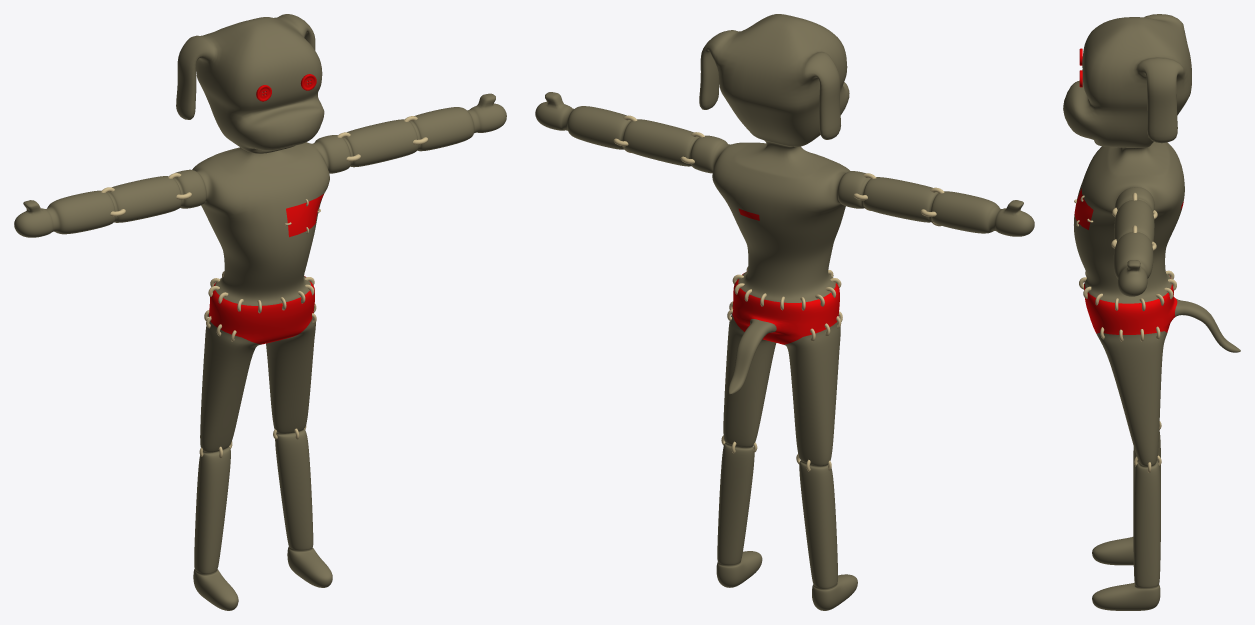
Rendered from Cao_fbx.fbx.
3 views of the same model, side by side, from view 1: azimuth 30°, elevation 25°; view 2: azimuth 150°, elevation 25°; view 3: azimuth 270°, elevation 25° (orthographic).
Parts seen in each view (by area): view 1: Corpo1; view 2: Corpo1; view 3: Corpo1.
Boxes of the visible parts, left/top/right/bottom form: Corpo1: left=14, top=14, right=506, bottom=610; Corpo1: left=535, top=14, right=1034, bottom=610; Corpo1: left=1063, top=14, right=1240, bottom=610.
Size of the model in its own units: 3.79 by 4.2 by 1.2.
